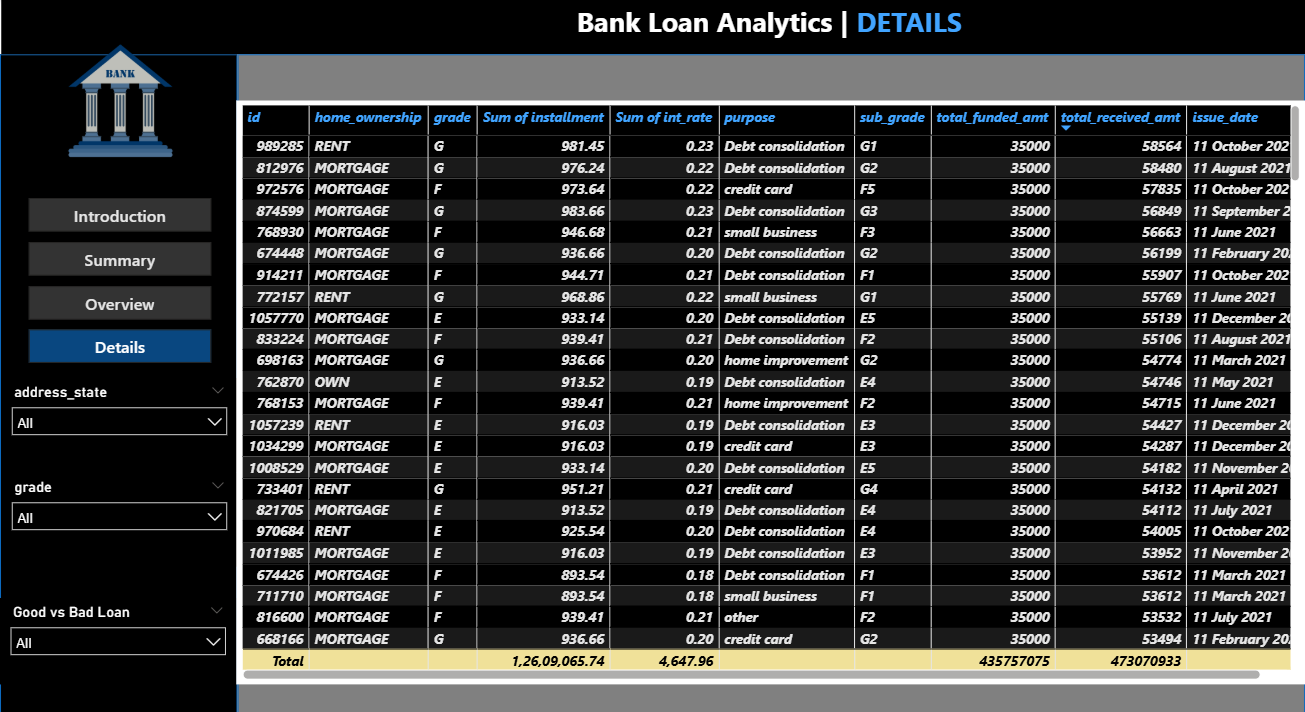

The dashboard page shown, as its layout file describes it:
{"tool":"powerbi","page":{"name":"Details","canvas":[1280,720],"ordinal":3},"visuals":[{"type":"shape","box":[0,55.2,233,664.7],"z":0},{"type":"textbox","box":[1.2,0,1279,55.2],"z":1},{"type":"image","box":[24.5,22.1,187.6,157],"z":2},{"type":"slicer","fields":{"Values":["financial_loan.address_state"]},"box":[1.2,372.8,231.8,93.2],"z":3},{"type":"slicer","fields":{"Values":["financial_loan.grade"]},"box":[1.2,466,231.8,92],"z":4},{"type":"slicer","fields":{"Values":["financial_loan.Good vs Bad Loan"]},"box":[0,588.6,231.8,84.6],"z":5},{"type":"shape","box":[233,55.2,1047.3,664.7],"z":6},{"type":"tableEx","fields":{"Values":["financial_loan.id","financial_loan.home_ownership","financial_loan.grade","Sum(financial_loan.installment)","Sum(financial_loan.int_rate)","financial_loan.purpose","financial_loan.sub_grade","table_measures.total_funded_amt","table_measures.total_received_amt","financial_loan.issue_date"]},"box":[231.8,100.6,1048.5,572.7],"z":7},{"type":"pageNavigator","box":[28.2,196.2,179,164.3],"z":8}]}

Visuals, with their boxes on the page's 1280x720 design canvas (x1, y1, x2, y2). These are canvas units, not pixel positions in the 1305x712 screenshot, which may show the page scaled, cropped or inside an application window:
shape: rect(0, 55, 233, 720)
textbox: rect(1, 0, 1280, 55)
image: rect(24, 22, 212, 179)
slicer - financial_loan.address_state: rect(1, 373, 233, 466)
slicer - financial_loan.grade: rect(1, 466, 233, 558)
slicer - financial_loan.Good vs Bad Loan: rect(0, 589, 232, 673)
shape: rect(233, 55, 1280, 720)
tableEx - financial_loan.id x financial_loan.home_ownership: rect(232, 101, 1280, 673)
pageNavigator: rect(28, 196, 207, 360)
